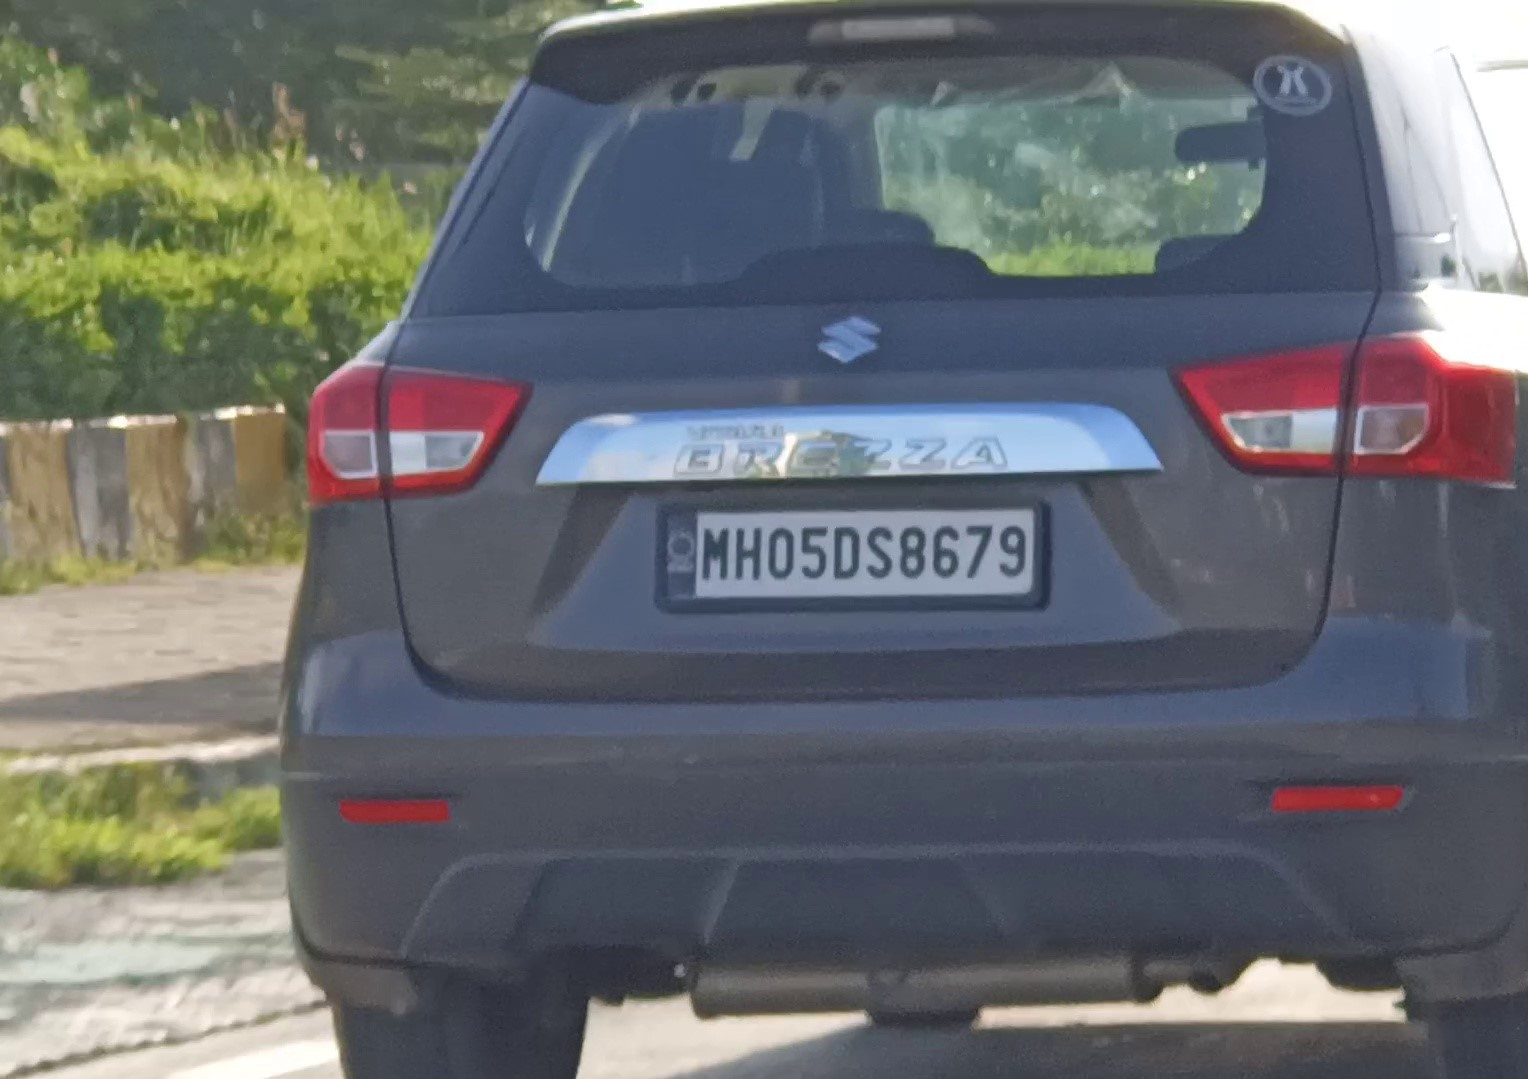MH05DS8679: (660, 508, 1039, 599)
